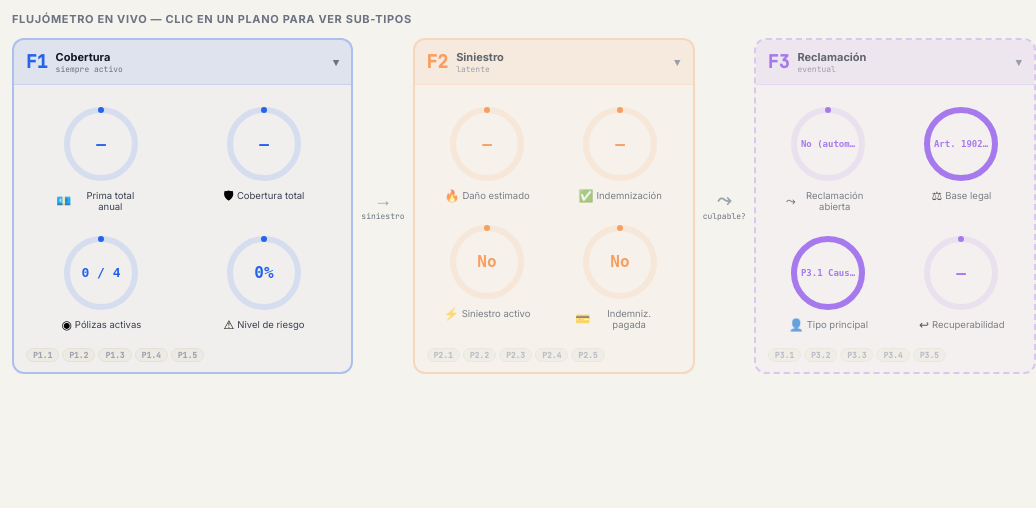
PhenomenonIIIFlowGraph — phase expand/collapse › clicking the same meter twice closes its detail panel
The image size is (1036, 508).
Click the text "Prima total anual".
click(110, 201)  # box [86,190,134,212]
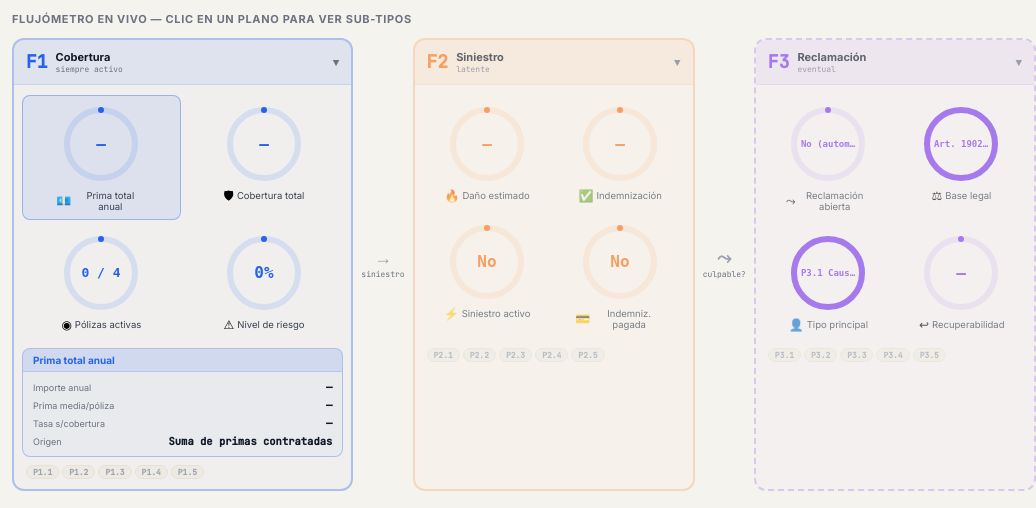
Click the text "Prima total anual" next to "Cobertura total".
click(110, 201)  # box [86,190,134,212]
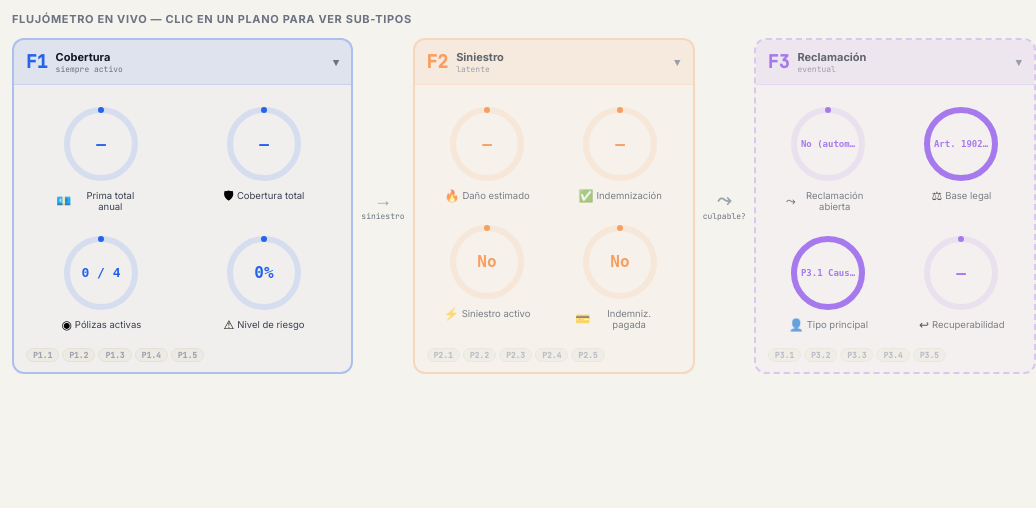
Expected: the text "Prima total anual" is shown once, [86,190,134,212]
